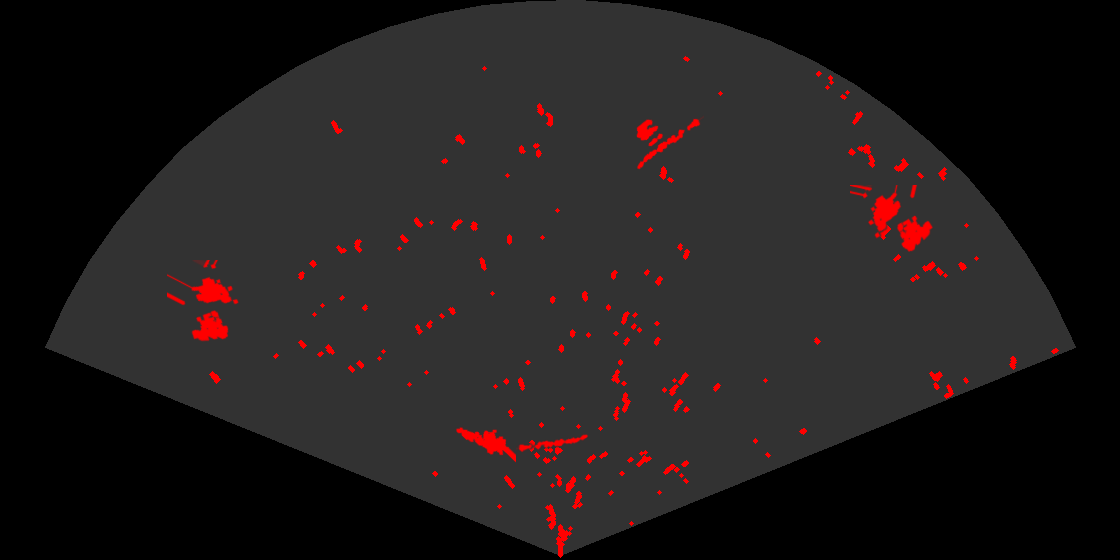ball: (635, 118, 665, 148)
cage: (167, 260, 240, 343), (850, 185, 934, 253)
chain: (635, 114, 704, 171), (516, 433, 590, 454)
frogman: (454, 426, 516, 464)
